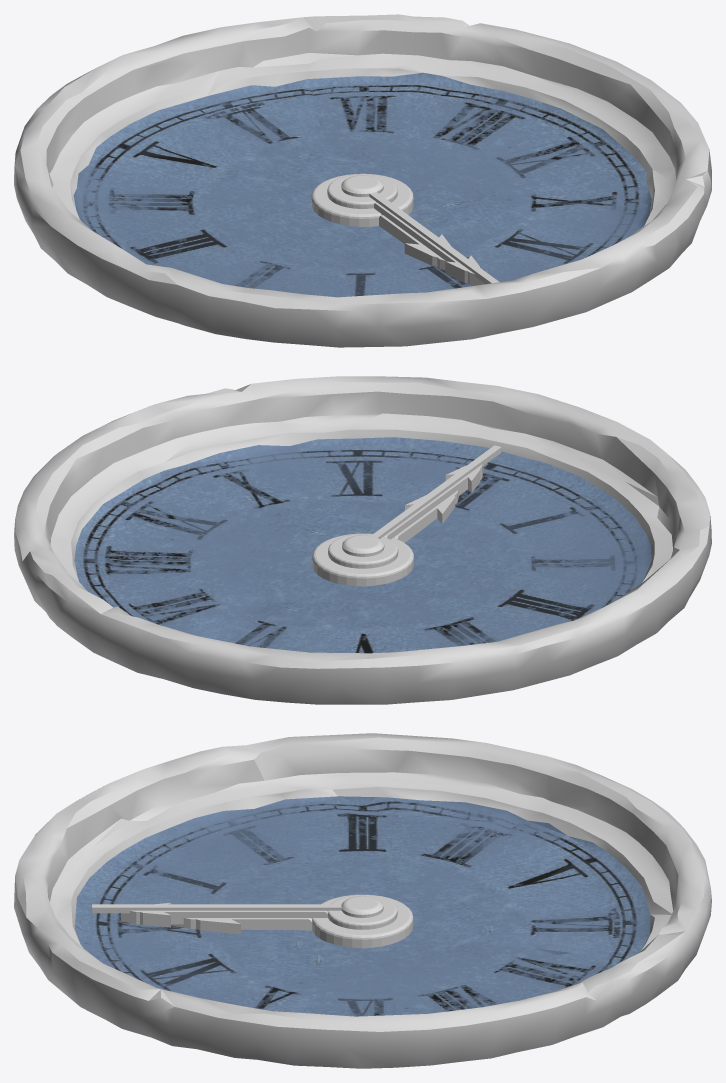
Rendered from ui_clock.fbx.
The picture shows the model from 3 angles, top to bottom: view 1: azimuth 30°, elevation 25°; view 2: azimuth 150°, elevation 25°; view 3: azimuth 270°, elevation 25°; orthographic projection.
Visible parts, largest first — view 1: base.001, hours, minutes, second; view 2: base.001, hours, minutes, second; view 3: base.001, hours, minutes, second.
Part boxes in pixels (<box>): base.001: <box>14,14,711,347</box>; hours: <box>311,173,451,270</box>; minutes: <box>327,174,483,285</box>; second: <box>341,175,499,284</box>; base.001: <box>14,376,711,704</box>; hours: <box>312,490,458,586</box>; minutes: <box>328,464,483,568</box>; second: <box>342,445,501,556</box>; base.001: <box>14,733,711,1068</box>; hours: <box>171,894,413,948</box>; minutes: <box>121,895,397,929</box>; second: <box>92,896,383,917</box>.
Bounding box in the file's own units: 0.9915 × 0.131 × 0.9914.
